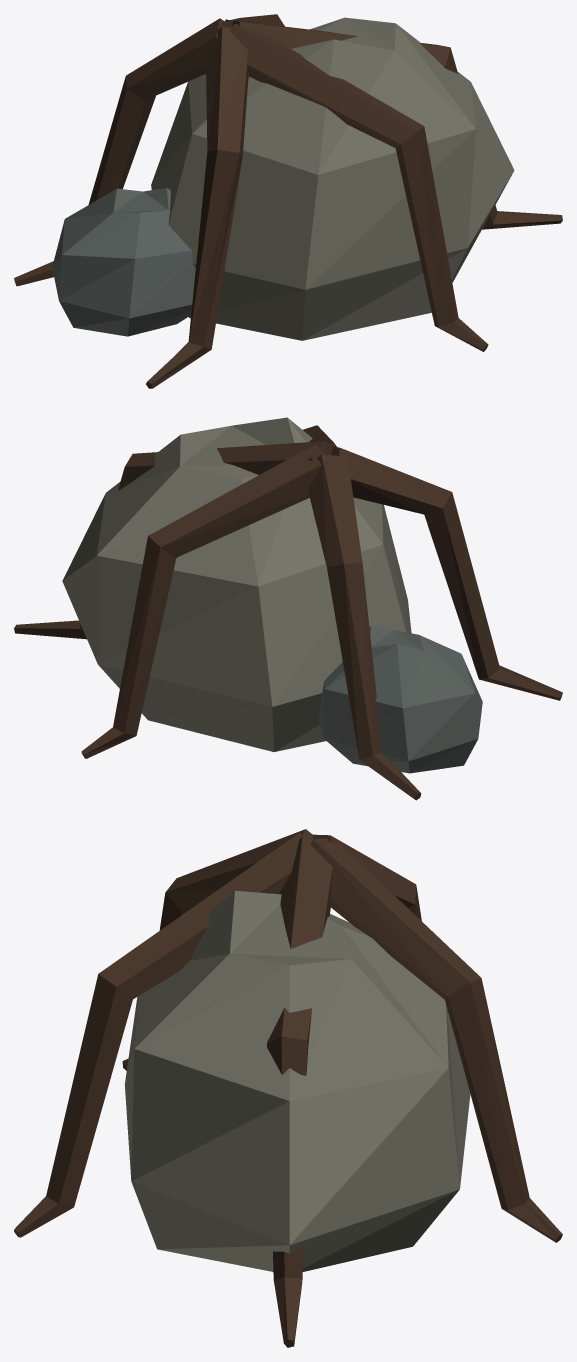
File: Prop_Common_RootClaspedBoulder_001_LOD1.glb
The picture shows the model from 3 angles, top to bottom: view 1: azimuth 30°, elevation 25°; view 2: azimuth 150°, elevation 25°; view 3: azimuth 270°, elevation 25°; orthographic projection. The views are drawn at different scales.
Visible parts, largest first — view 1: Prop_Common_RootClaspedBoulder_001_LOD1; view 2: Prop_Common_RootClaspedBoulder_001_LOD1; view 3: Prop_Common_RootClaspedBoulder_001_LOD1.
Part boxes in pixels (x1,y1,x2,y2): Prop_Common_RootClaspedBoulder_001_LOD1: (14, 14, 562, 388); Prop_Common_RootClaspedBoulder_001_LOD1: (14, 417, 562, 800); Prop_Common_RootClaspedBoulder_001_LOD1: (14, 829, 562, 1347).
Size of the model in its own units: 2.94 by 1.62 by 2.42.
